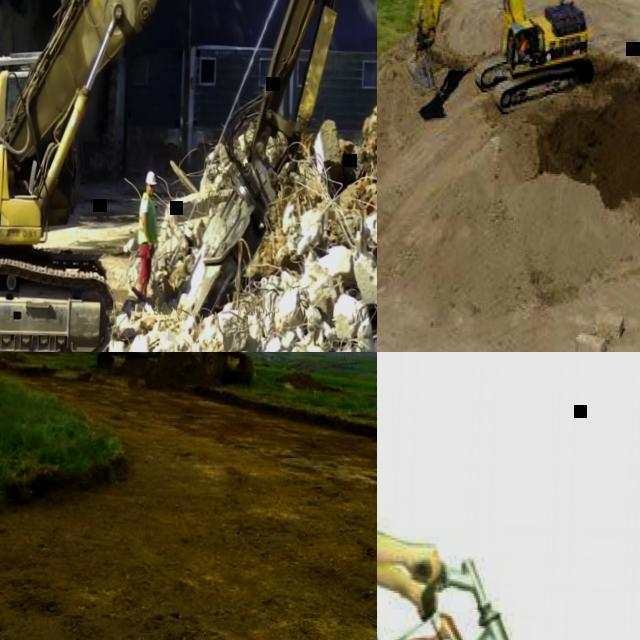helmet: (145, 170, 157, 185)
vest: (138, 198, 158, 244), (520, 40, 530, 54)
